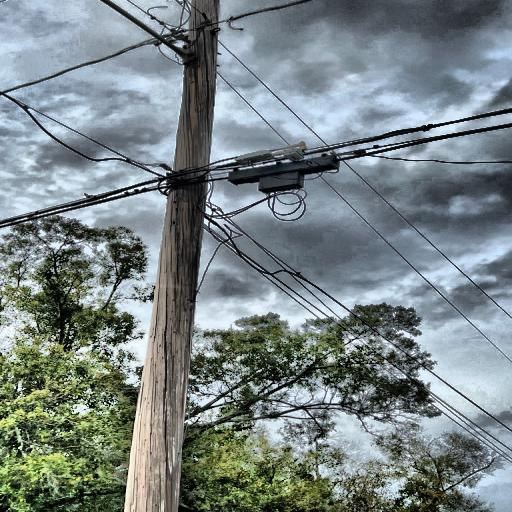pole: (90, 0, 228, 512)
street light: (0, 0, 207, 79)
